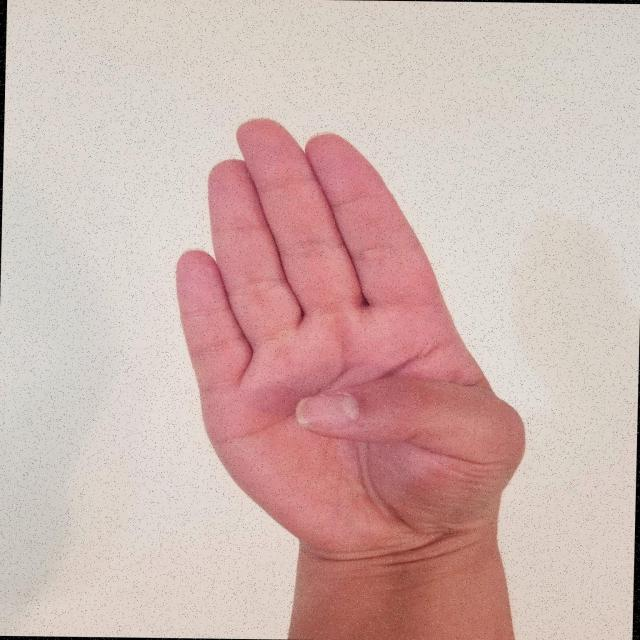B: (160, 110, 546, 570)
